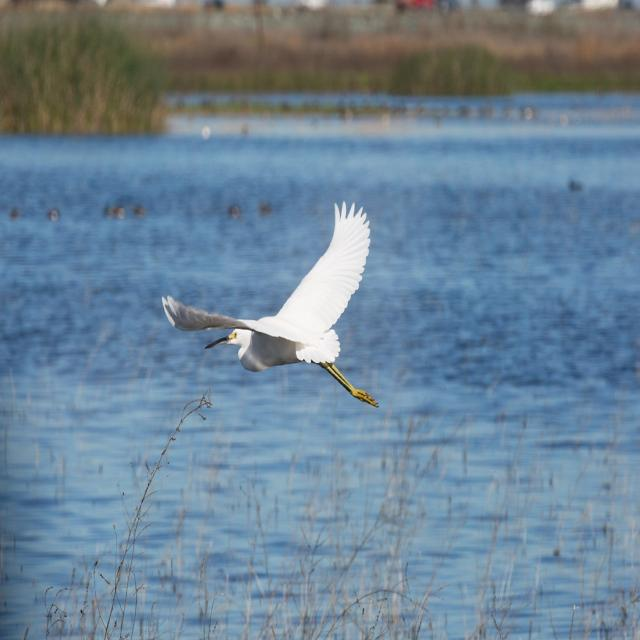bird: (157, 202, 380, 412)
